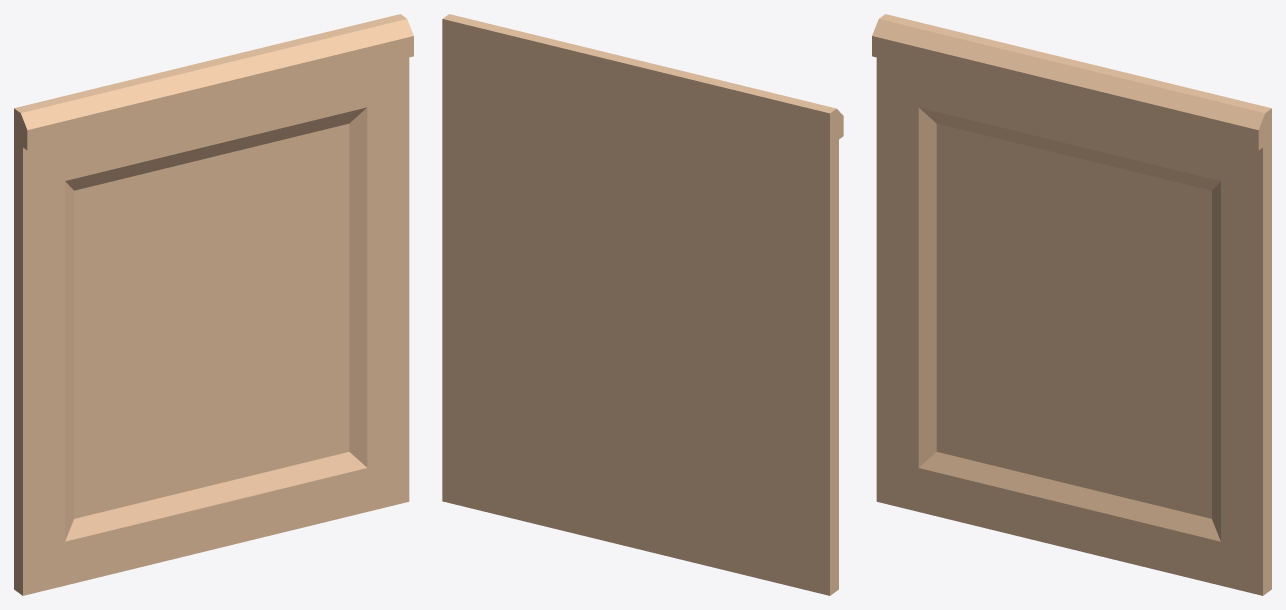
The model's file is paneling.glb.
The picture shows the model from 3 angles, left to right: view 1: azimuth 30°, elevation 25°; view 2: azimuth 150°, elevation 25°; view 3: azimuth 330°, elevation 25°; orthographic projection.
Visible parts, largest first — view 1: paneling(Clone); view 2: paneling(Clone); view 3: paneling(Clone).
Boxes of the visible parts, <box> form: paneling(Clone): <box>14,14,413,595</box>; paneling(Clone): <box>442,14,843,595</box>; paneling(Clone): <box>872,14,1271,595</box>.
Size of the model in its own units: 1.01 by 1.21 by 0.0609.
Materials: 1 (1 with a texture image).
